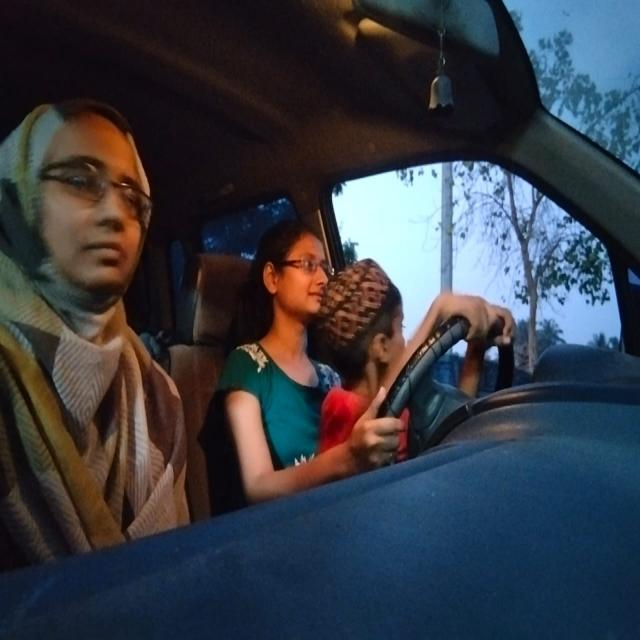child: (314, 258, 421, 378)
person: (2, 71, 166, 385), (244, 200, 334, 349)
